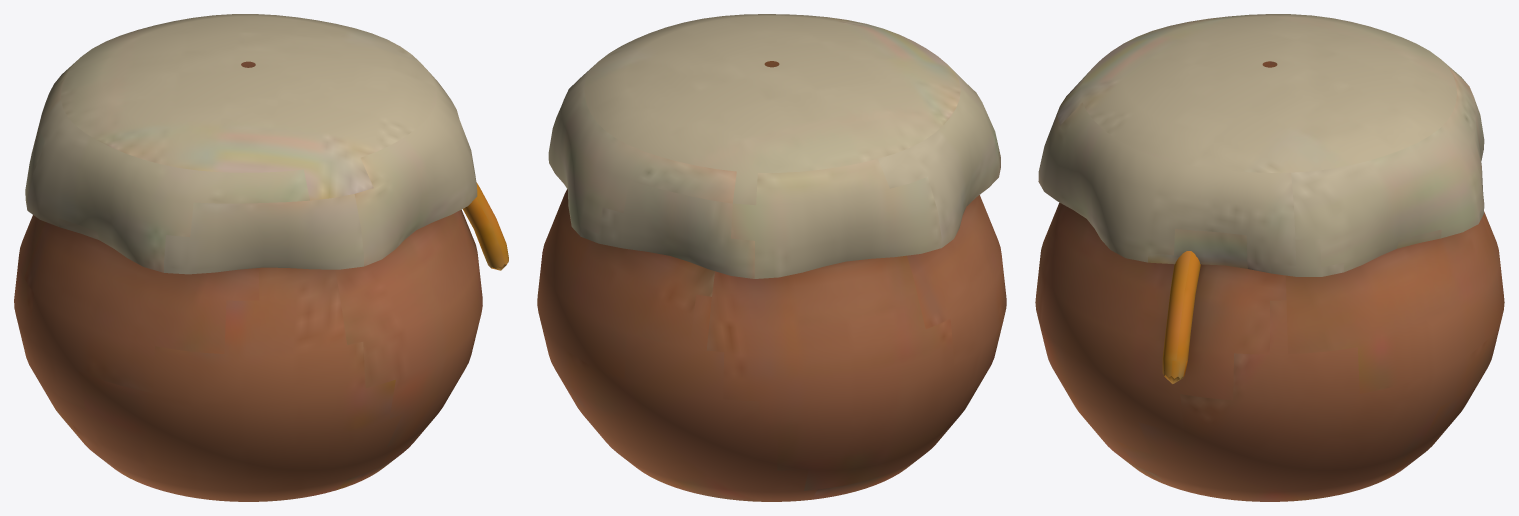
Rendered from honey_pot.glb.
3 views of the same model, side by side, from view 1: azimuth 30°, elevation 25°; view 2: azimuth 150°, elevation 25°; view 3: azimuth 270°, elevation 25° (orthographic).
Parts seen in each view (by area): view 1: honey_pot; view 2: honey_pot; view 3: honey_pot.
Boxes of the visible parts, left/top/right/bottom form: honey_pot: left=14, top=14, right=508, bottom=501; honey_pot: left=537, top=14, right=1006, bottom=501; honey_pot: left=1035, top=14, right=1504, bottom=501.
Size of the model in its own units: 0.0933 by 0.0829 by 0.0915.
1 material, 1 textured.
